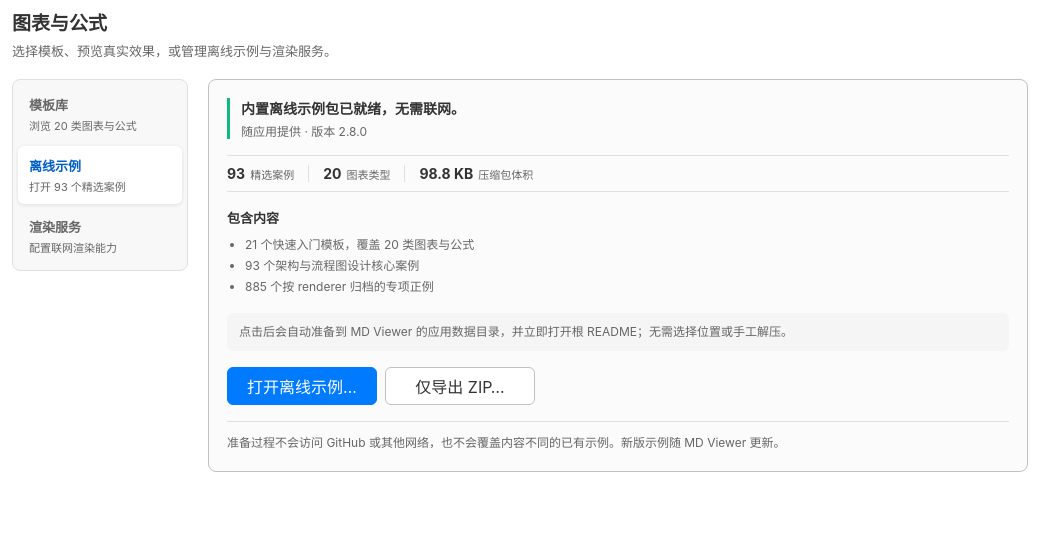
it: ChartsSettingsTab › keeps the examples page open and shows a structured install error
Click the button "打开离线示例…" at [302, 386], box 227,367 -> 377,405
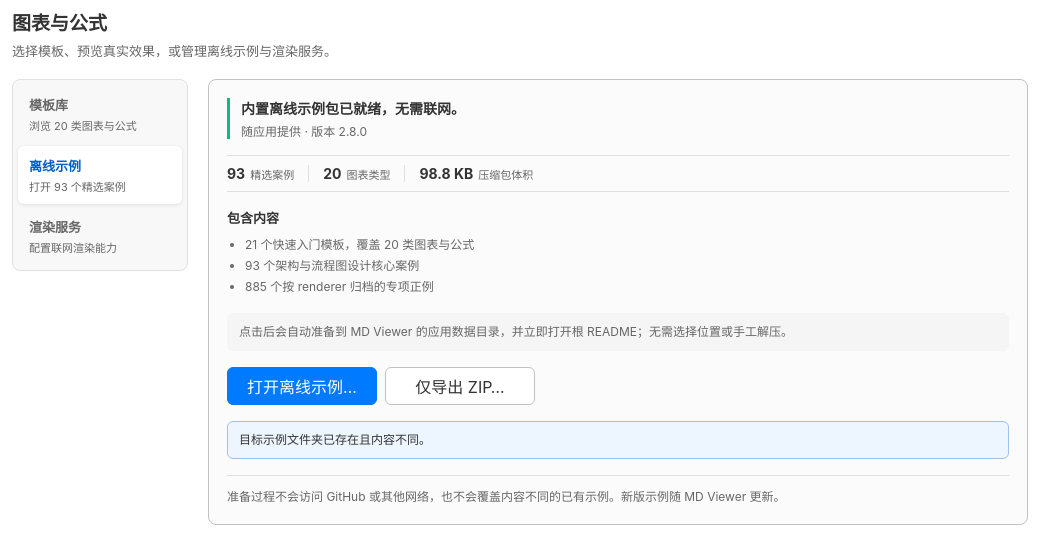
Result: the text "目标示例文件夹已存在且内容不同。" is shown at 227,421 -> 1009,458
